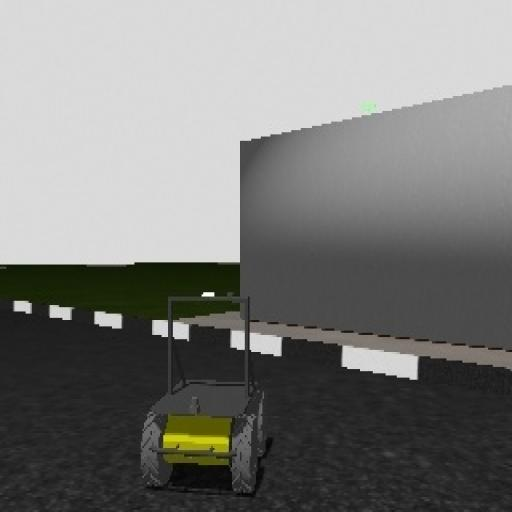huskya200: (131, 279, 273, 505)
